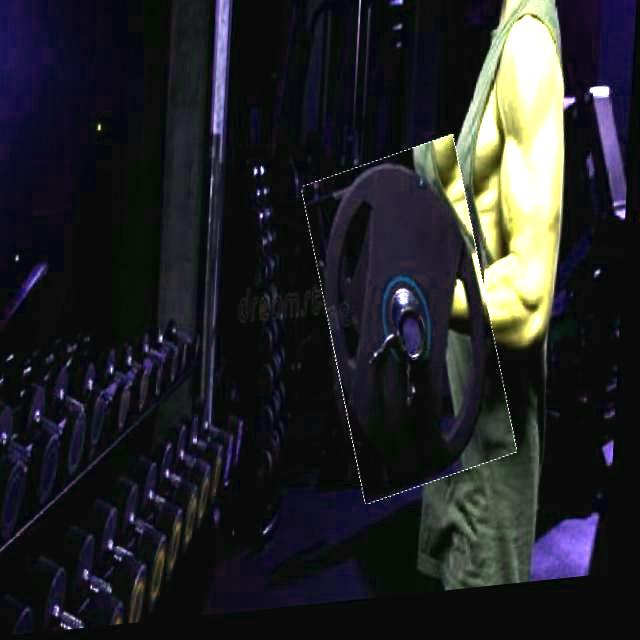barbell: (312, 148, 517, 512)
